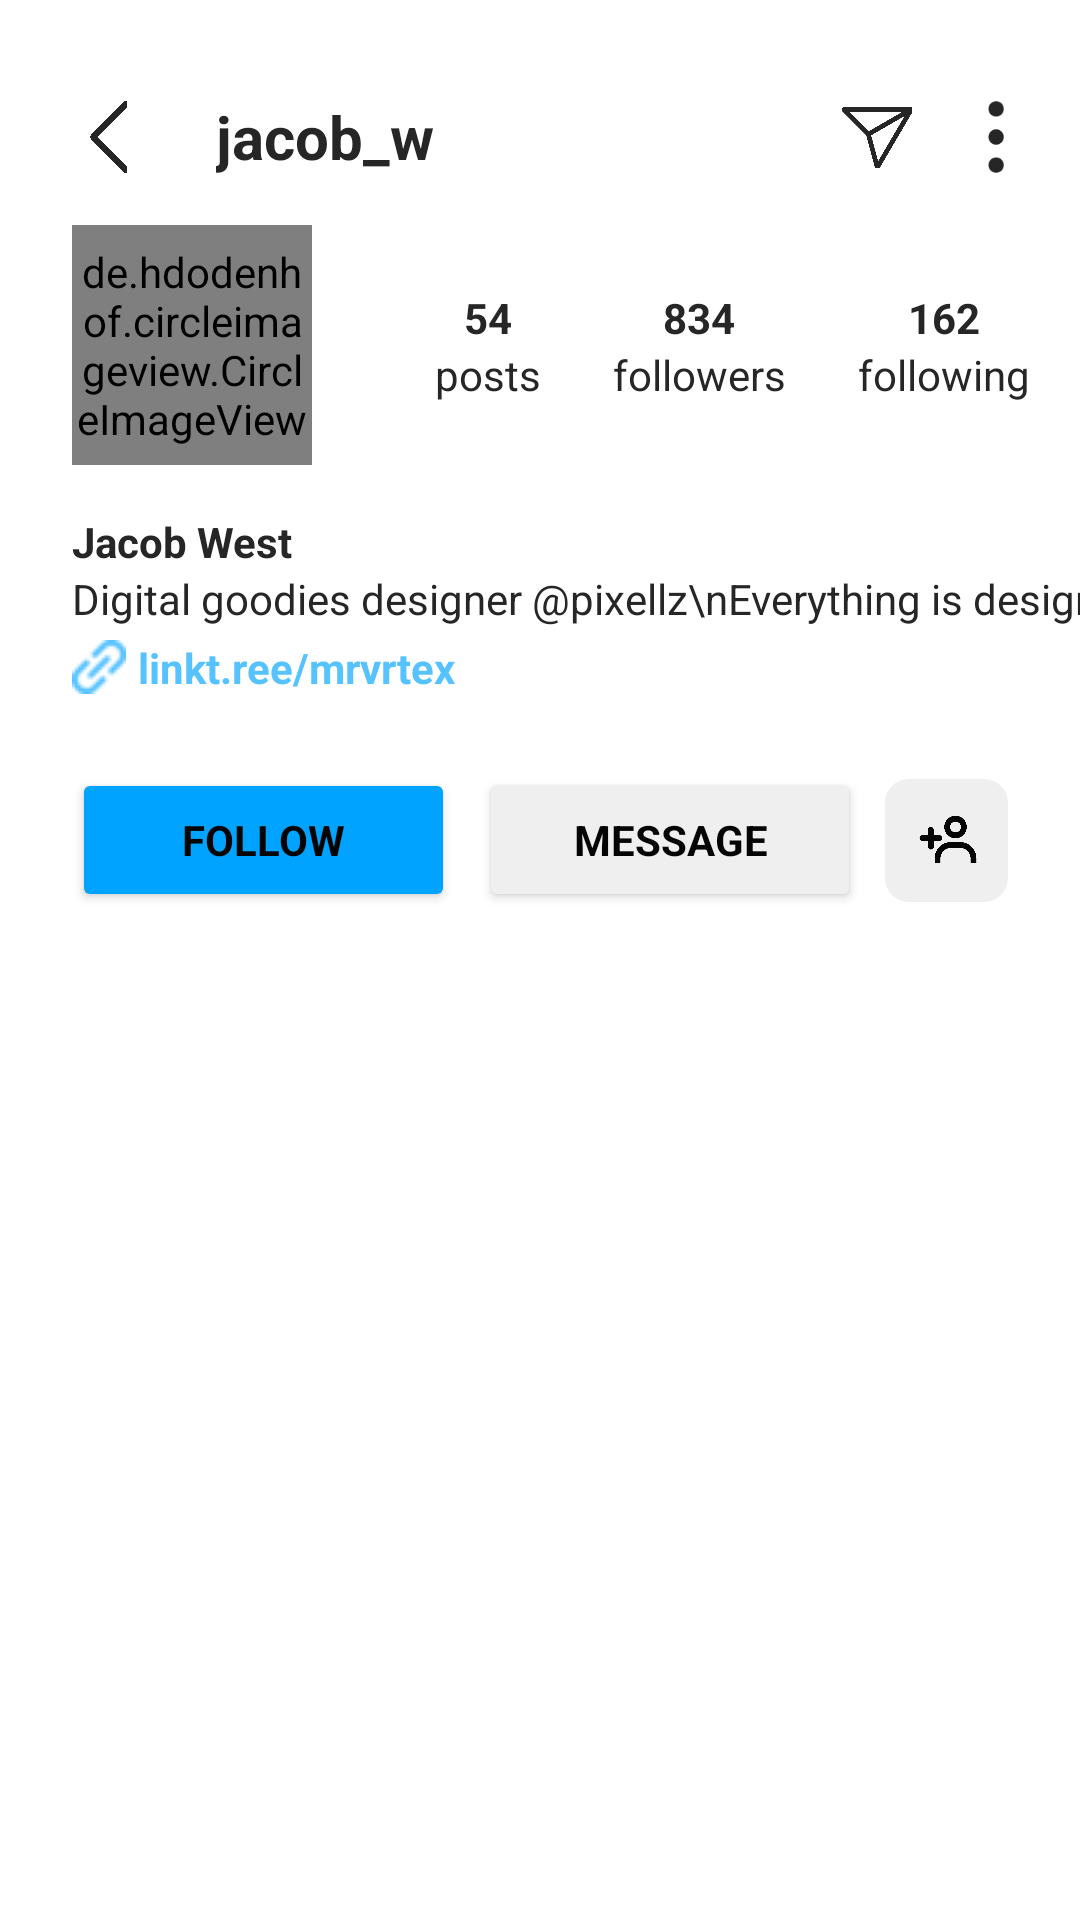

Locate icon controls on the screen. Image size 1080px x 1920px, boxes as (x1, y1, x2, y2).
back arrow: (90, 101, 127, 173)
more profiles: (885, 779, 1008, 902)
more settings: (988, 101, 1004, 173)
send: (841, 107, 912, 168)
